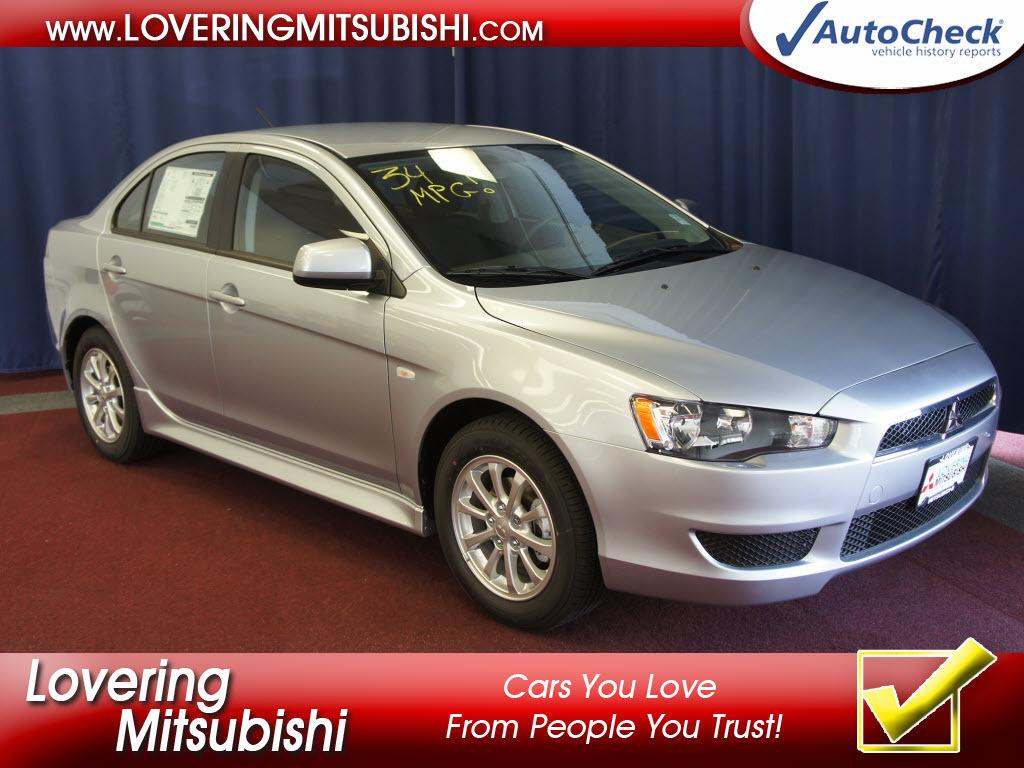Sedan: (41, 118, 1002, 632)
